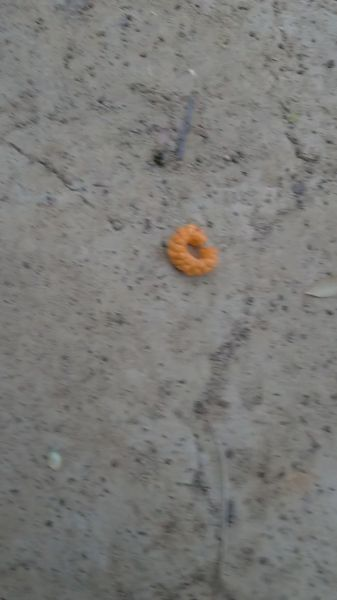eggs: (162, 216, 224, 286)
